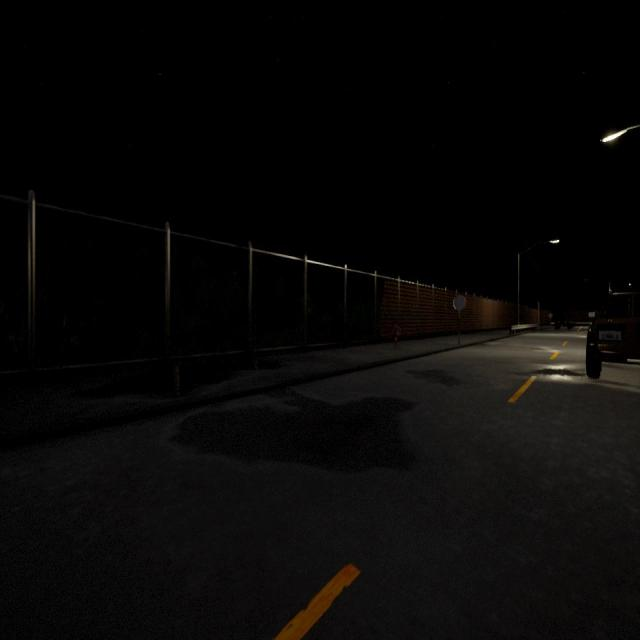Pedestrian: (390, 318, 401, 352)
Traffic_Signs: (453, 294, 466, 311), (548, 313, 553, 318)
Vehicle: (586, 293, 640, 380), (554, 314, 574, 330)
